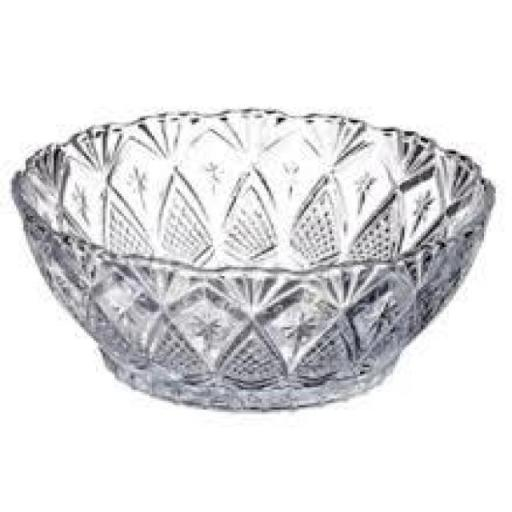glass: (0, 104, 512, 421)
